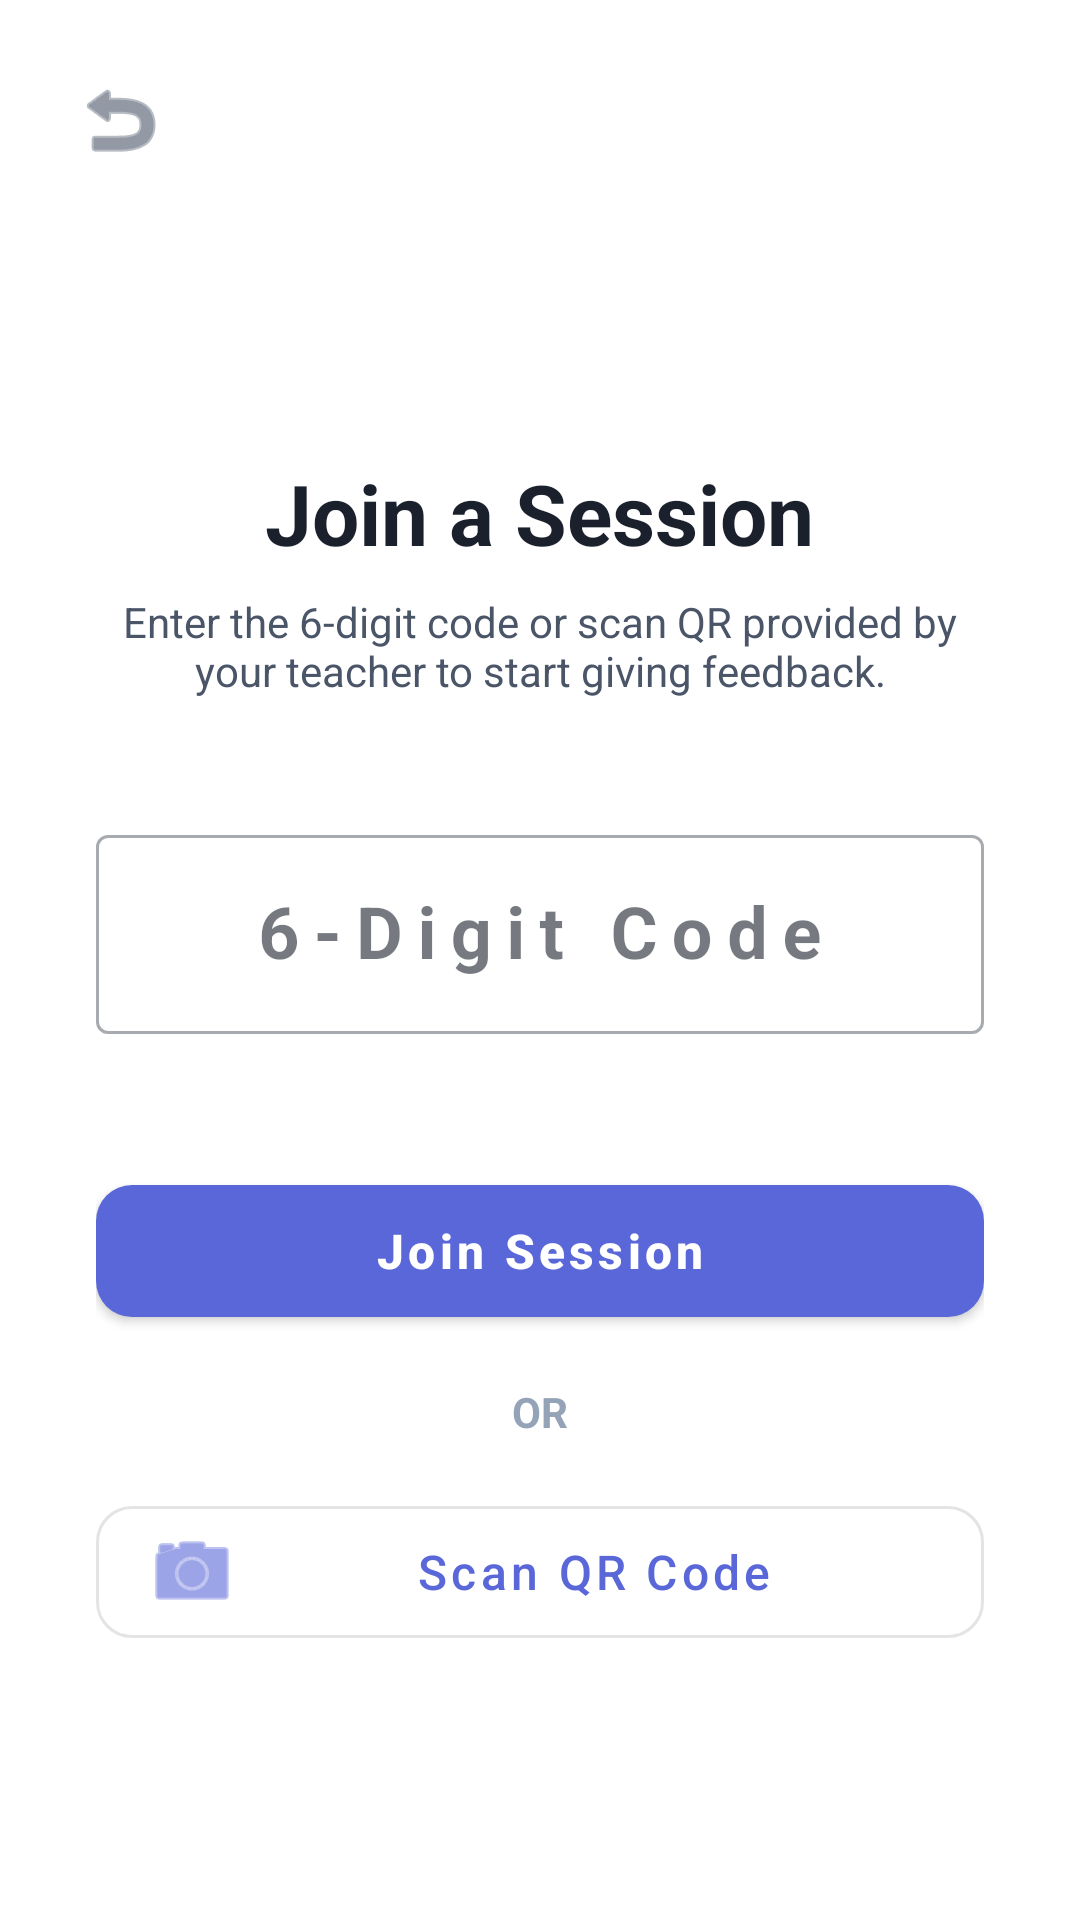

Where icons sit on this 1080 x 1920 app screen, as (x1, y1, x2, y2):
Back: (87, 89, 156, 152)
